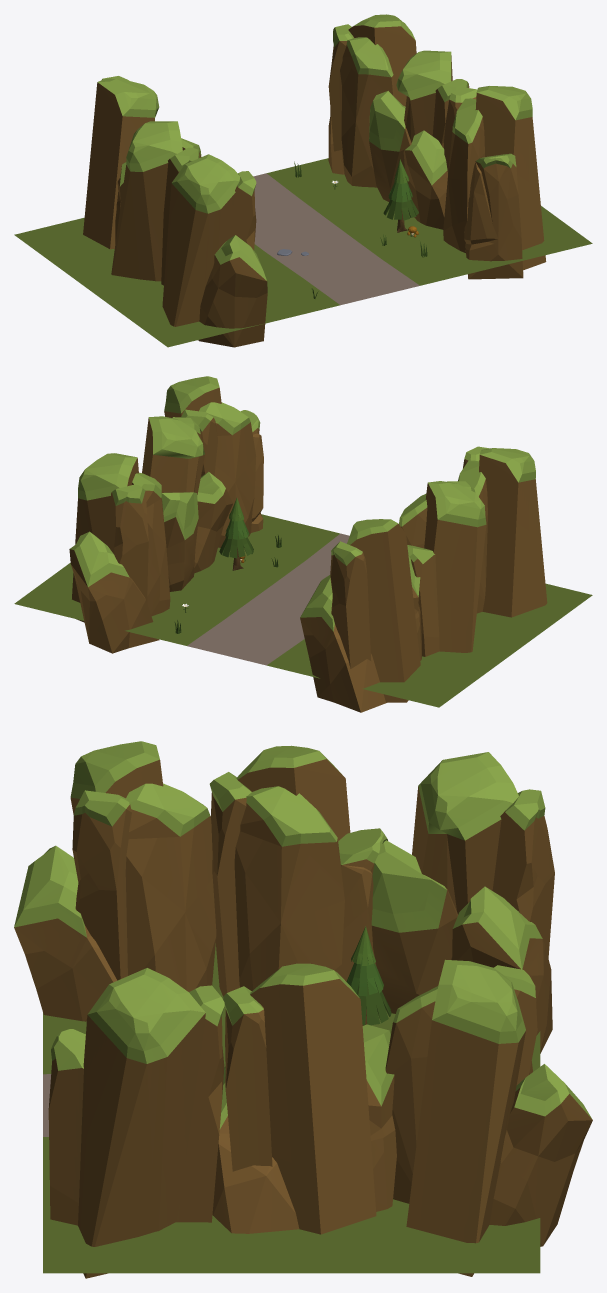
The model's file is RoadPart1.fbx.
3 views of the same model, one above another, from view 1: azimuth 30°, elevation 25°; view 2: azimuth 150°, elevation 25°; view 3: azimuth 270°, elevation 25° (orthographic). The views are drawn at different scales.
Visible parts, largest first — view 1: RoadPart1; view 2: RoadPart1; view 3: RoadPart1.
Boxes of the visible parts, x1,y1,x2,y2 form: RoadPart1: [14, 14, 592, 347]; RoadPart1: [14, 376, 592, 712]; RoadPart1: [14, 741, 592, 1278].
Bounding box in the file's own units: 3633 × 1383 × 2651.
